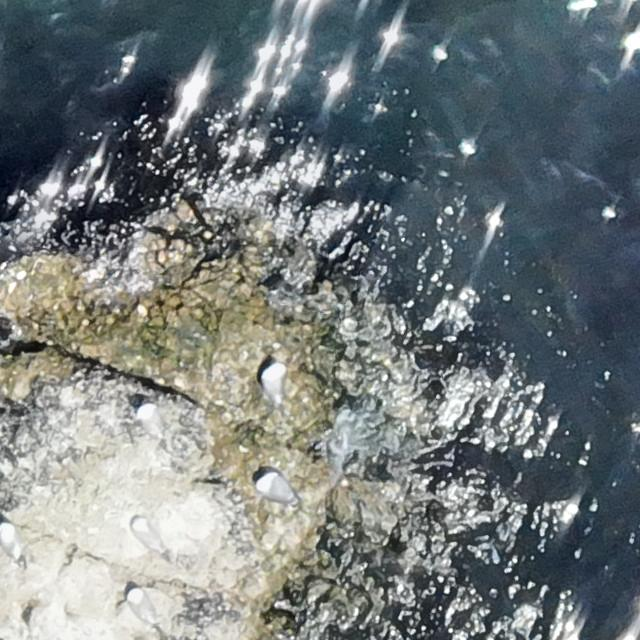umineko: (126, 584, 164, 636), (130, 514, 169, 560), (137, 400, 163, 446), (261, 363, 287, 408), (0, 521, 27, 562), (258, 475, 294, 500)
